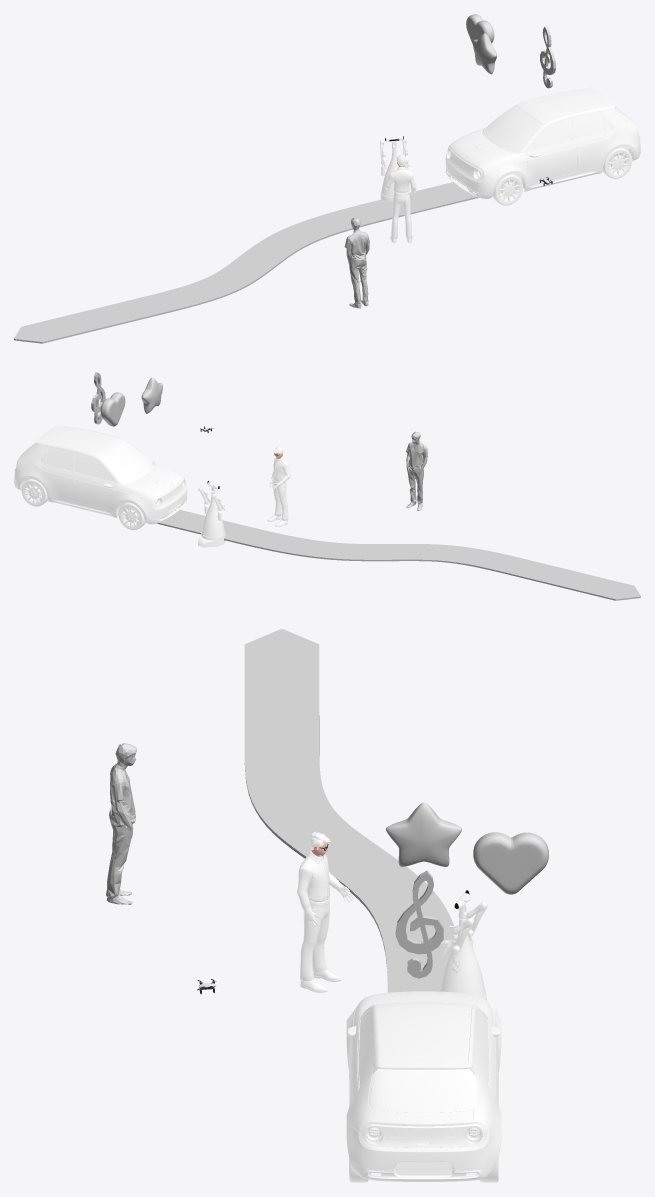
The model's file is whole_scene_toon.glb.
The picture shows the model from 3 angles, top to bottom: view 1: azimuth 30°, elevation 25°; view 2: azimuth 150°, elevation 25°; view 3: azimuth 270°, elevation 25°; orthographic projection. The views are drawn at different scales.
Visible parts, largest first — view 1: ego_trajectory, CarBodyModel, GlassesModel, pedestrian, RoofPlasticModel, FrontBajosPalitos_Plastic25_0.001, WheelFrameModel, WheelRubberModel, OutfitBottom, BodyFrontBackPlasticModel, star, OutfitTop (+2 smaller); view 2: ego_trajectory, CarBodyModel, GlassesModel, pedestrian, RoofPlasticModel, FrontBajosPalitos_Plastic25_0.001, heart, WheelFrameModel, WheelRubberModel, body, BodyFrontBackPlasticModel, star (+3 smaller); view 3: ego_trajectory, GlassesModel, CarBodyModel, heart, pedestrian, star, RoofPlasticModel, BodyFrontBackPlasticModel, music, OutfitBottom, FrontBajosPalitos_Plastic25_0.001, OutfitTop (+2 smaller).
Boxes of the visible parts, left/top/right/bottom form: ego_trajectory: left=14, top=182, right=478, bottom=343; CarBodyModel: left=445, top=110, right=640, bottom=193; GlassesModel: left=485, top=88, right=630, bottom=153; pedestrian: left=344, top=217, right=369, bottom=308; RoofPlasticModel: left=482, top=87, right=614, bottom=157; FrontBajosPalitos_Plastic25_0.001: left=446, top=150, right=640, bottom=198; WheelFrameModel: left=498, top=152, right=629, bottom=202; WheelRubberModel: left=492, top=147, right=632, bottom=205; OutfitBottom: left=391, top=191, right=412, bottom=239; BodyFrontBackPlasticModel: left=446, top=125, right=638, bottom=180; star: left=472, top=33, right=496, bottom=74; OutfitTop: left=385, top=167, right=416, bottom=196; ego_trajectory: left=138, top=510, right=640, bottom=600; CarBodyModel: left=14, top=445, right=187, bottom=519; GlassesModel: left=23, top=426, right=152, bottom=483; pedestrian: left=406, top=431, right=427, bottom=510; RoofPlasticModel: left=37, top=425, right=154, bottom=487; FrontBajosPalitos_Plastic25_0.001: left=14, top=481, right=186, bottom=524; heart: left=100, top=392, right=125, bottom=426; WheelFrameModel: left=24, top=483, right=139, bottom=527; WheelRubberModel: left=21, top=478, right=145, bottom=530; body: left=201, top=494, right=224, bottom=537; BodyFrontBackPlasticModel: left=15, top=459, right=186, bottom=507; star: left=141, top=377, right=162, bottom=413; ego_trajectory: left=244, top=629, right=454, bottom=992; GlassesModel: left=359, top=1002, right=488, bottom=1112; CarBodyModel: left=346, top=991, right=501, bottom=1170; heart: left=473, top=832, right=548, bottom=894; pedestrian: left=106, top=743, right=137, bottom=904; star: left=386, top=802, right=461, bottom=866; RoofPlasticModel: left=347, top=1004, right=500, bottom=1089; BodyFrontBackPlasticModel: left=361, top=991, right=486, bottom=1147; music: left=395, top=870, right=443, bottom=978; OutfitBottom: left=300, top=897, right=329, bottom=981; FrontBajosPalitos_Plastic25_0.001: left=349, top=1074, right=498, bottom=1181; OutfitTop: left=297, top=850, right=343, bottom=914.
Bounding box in the file's own units: 14.98 × 3.46 × 4.96.
Materials: 32 (3 with a texture image).
